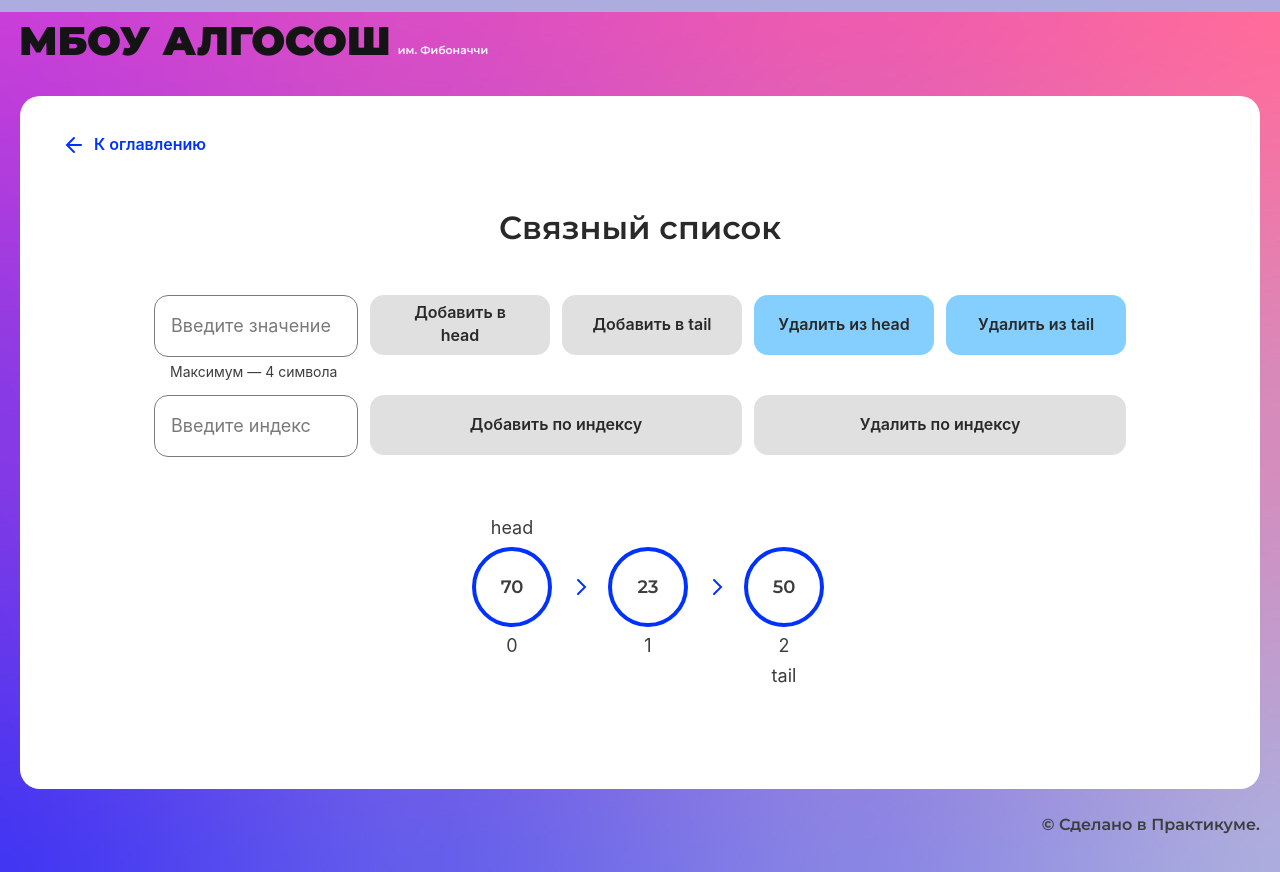
Test case: linked-list visualizer work › buttons and input › should limit value
Type "12345" into the field with test id "valueInput" at (256, 326), box [154,295,358,357]
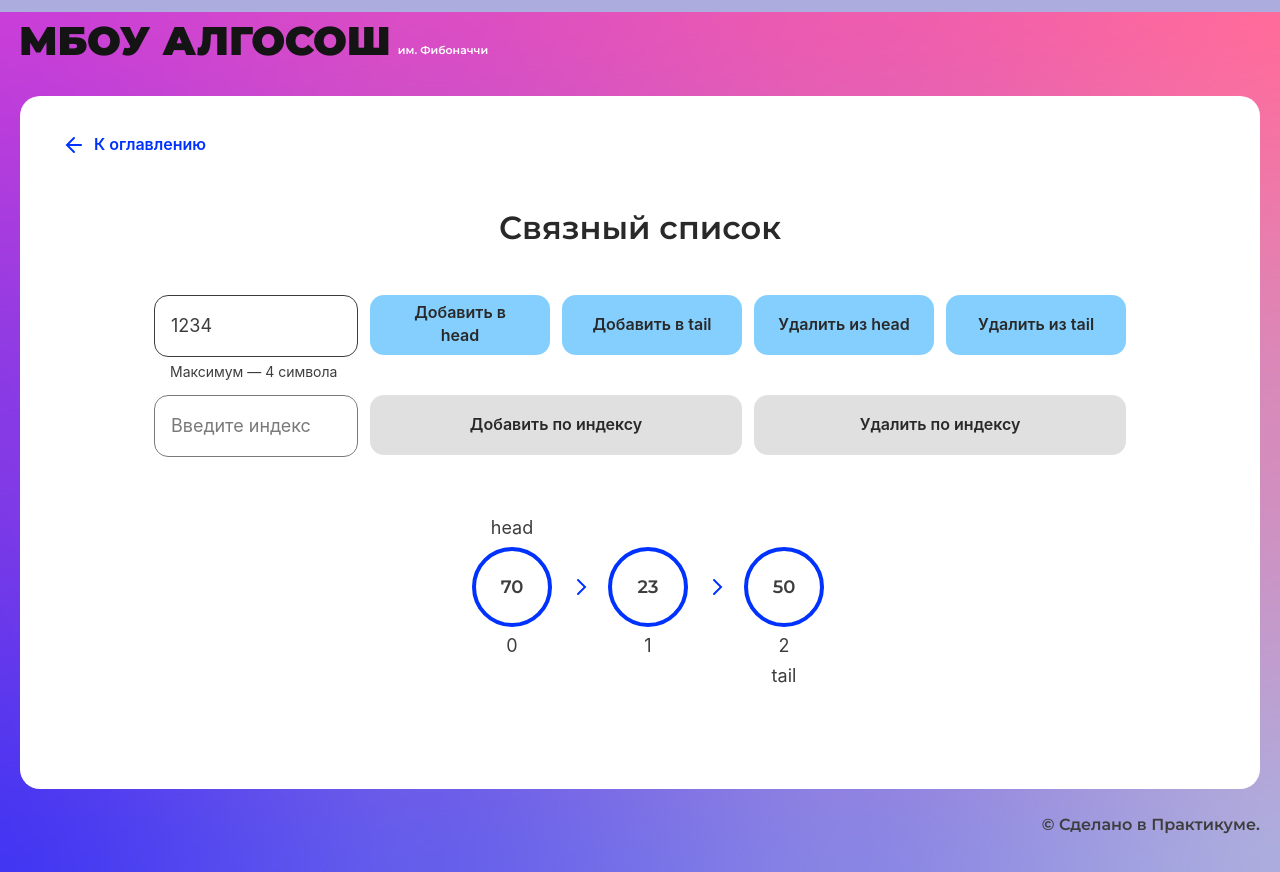
Result: the field with test id "valueInput" holds "1234" at [154,295,358,357]
